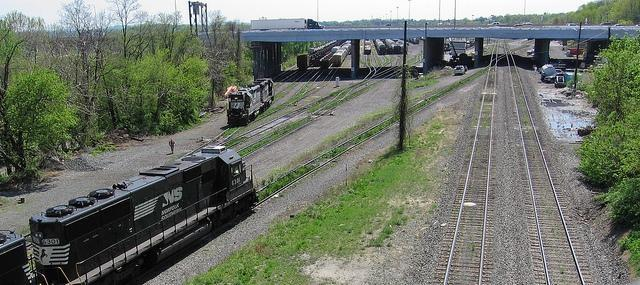truck: (251, 19, 323, 29), (540, 64, 557, 82), (566, 48, 585, 57)
